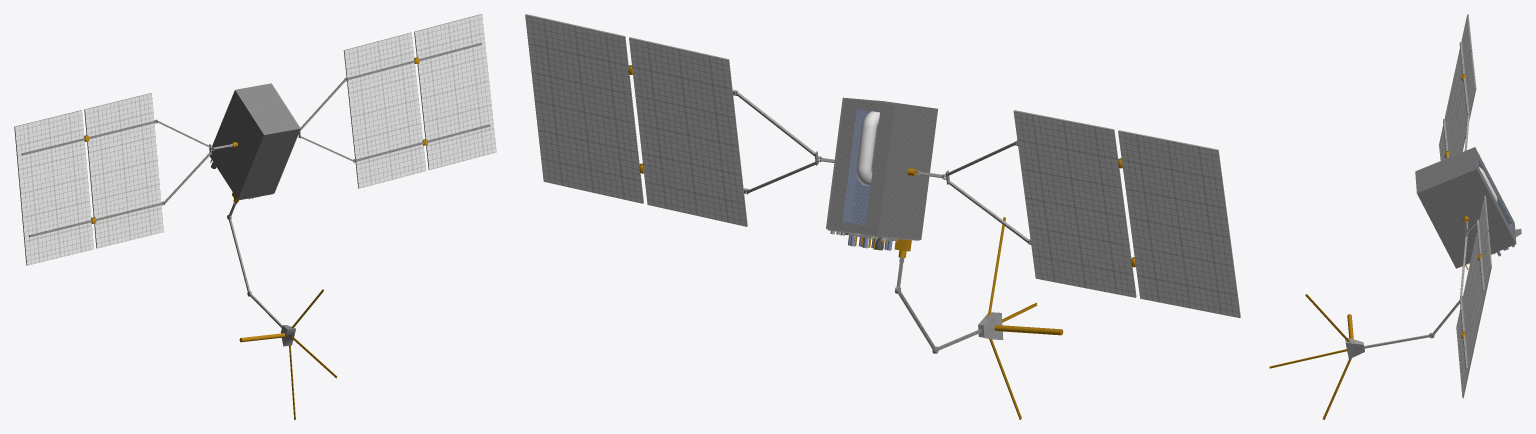
File: satellite_gps3.glb
The picture shows the model from 3 angles, left to right: view 1: azimuth 30°, elevation 25°; view 2: azimuth 150°, elevation 25°; view 3: azimuth 270°, elevation 25°; orthographic projection. The views are drawn at different scales.
Parts seen in each view (by area): view 1: GPS_III_Satellite; view 2: GPS_III_Satellite; view 3: GPS_III_Satellite.
Boxes of the visible parts, left/top/right/bottom form: GPS_III_Satellite: left=14, top=14, right=496, bottom=419; GPS_III_Satellite: left=525, top=14, right=1240, bottom=419; GPS_III_Satellite: left=1269, top=14, right=1521, bottom=419.
Bounding box in the file's own units: 0.1785 × 0.104 × 0.0791.
7 materials, 6 textured.
